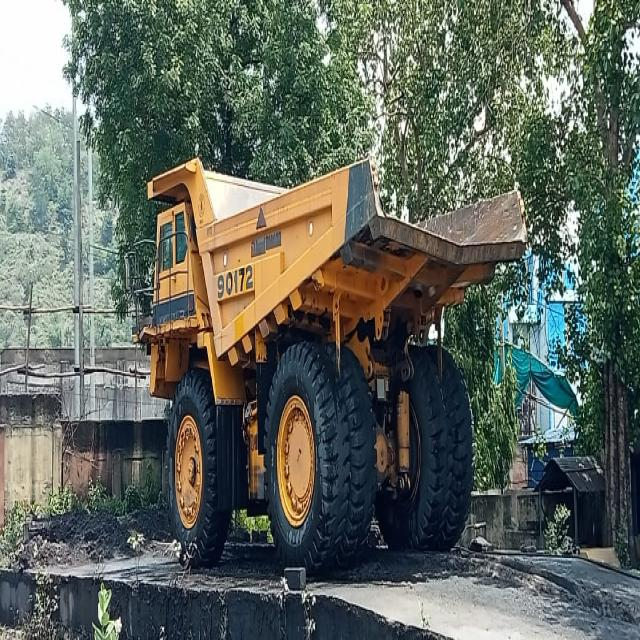dump_truck: (138, 156, 527, 564)
